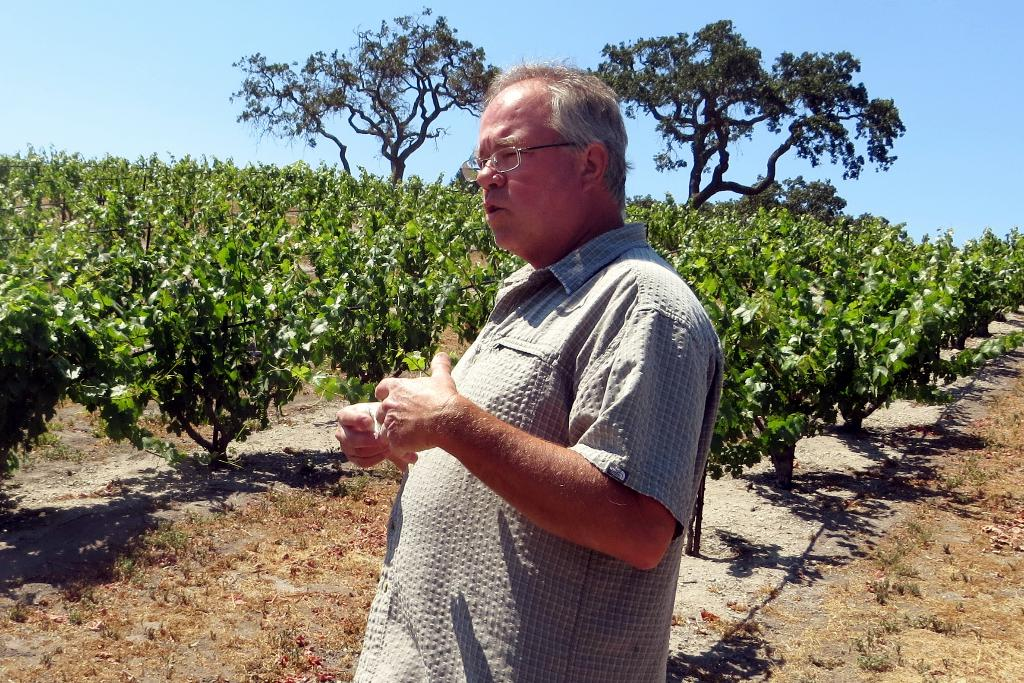Tree: (580, 19, 906, 212), (228, 4, 502, 185)
